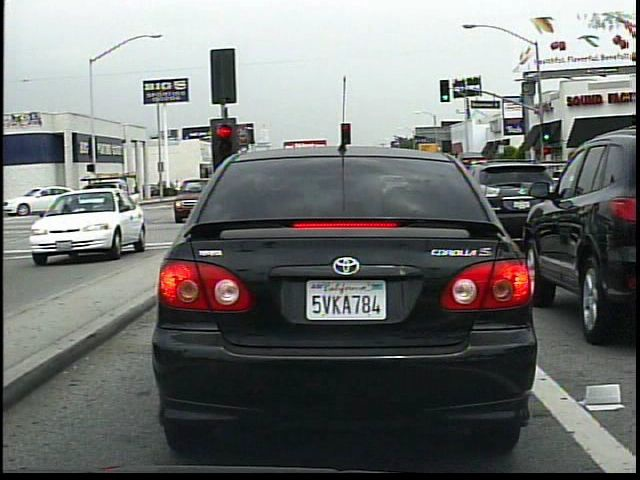person: (173, 175, 184, 196)
